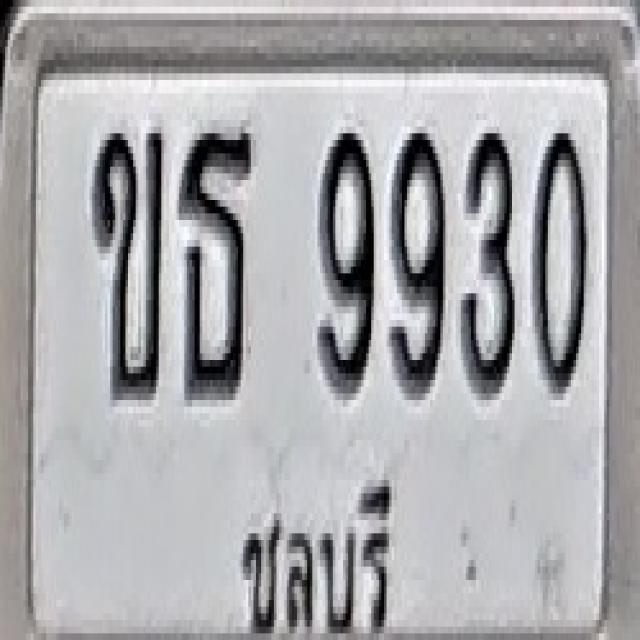-: (178, 120, 252, 400), (91, 127, 162, 400)
0: (532, 127, 586, 393)
3: (460, 127, 514, 400)
9: (317, 130, 374, 397), (389, 130, 446, 397)
CBI: (234, 468, 406, 640)
